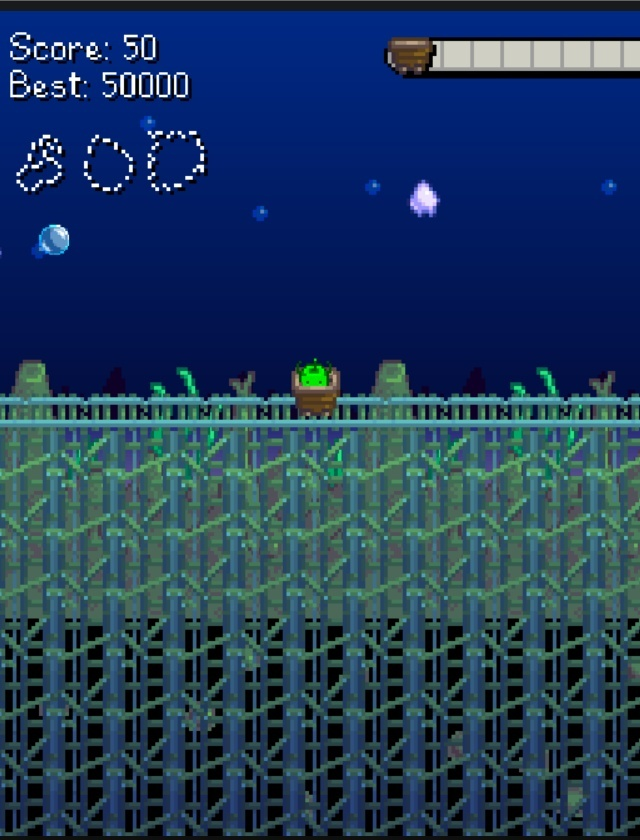bubble: (33, 225, 68, 257)
minecart: (292, 371, 338, 415)
tracks: (366, 391, 640, 435), (0, 388, 274, 431)
